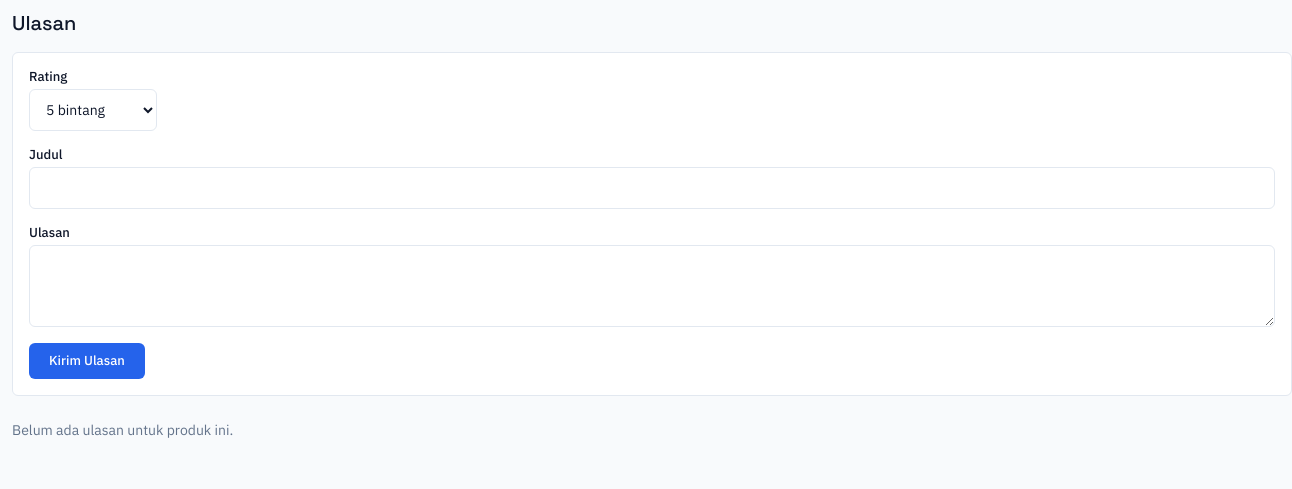
Test case: ProductReviews › surfaces the backend's forbidden error when the caller never received the product
In the field labelled "Judul": (652, 188) [29,167,1275,209], type "Bagus banget"
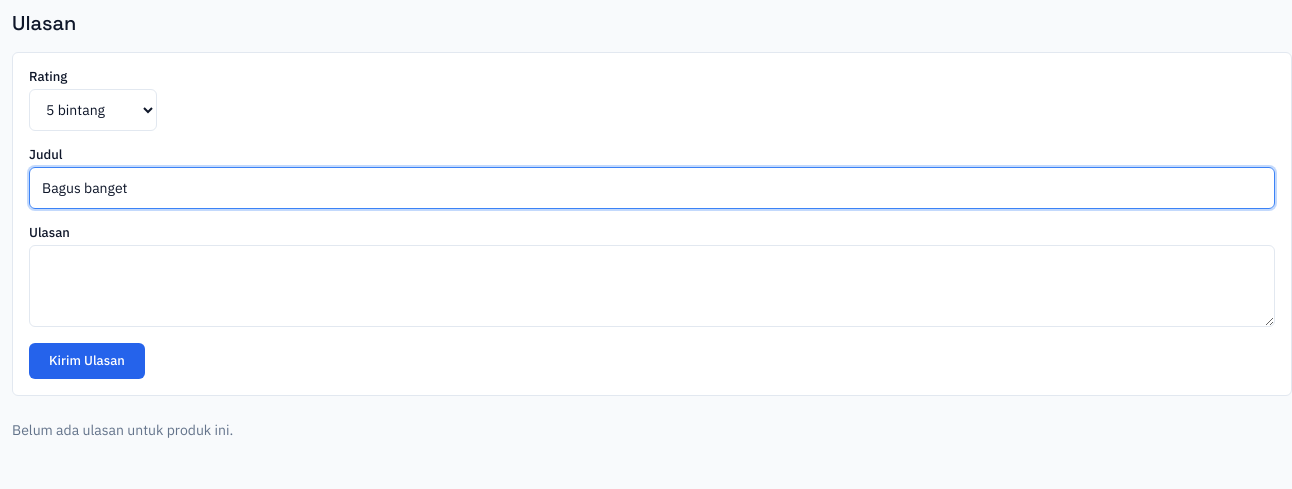
In the text box labelled "Ulasan": (652, 286) [29,245,1275,327], type "Kualitas produk sangat memuaskan sekali."
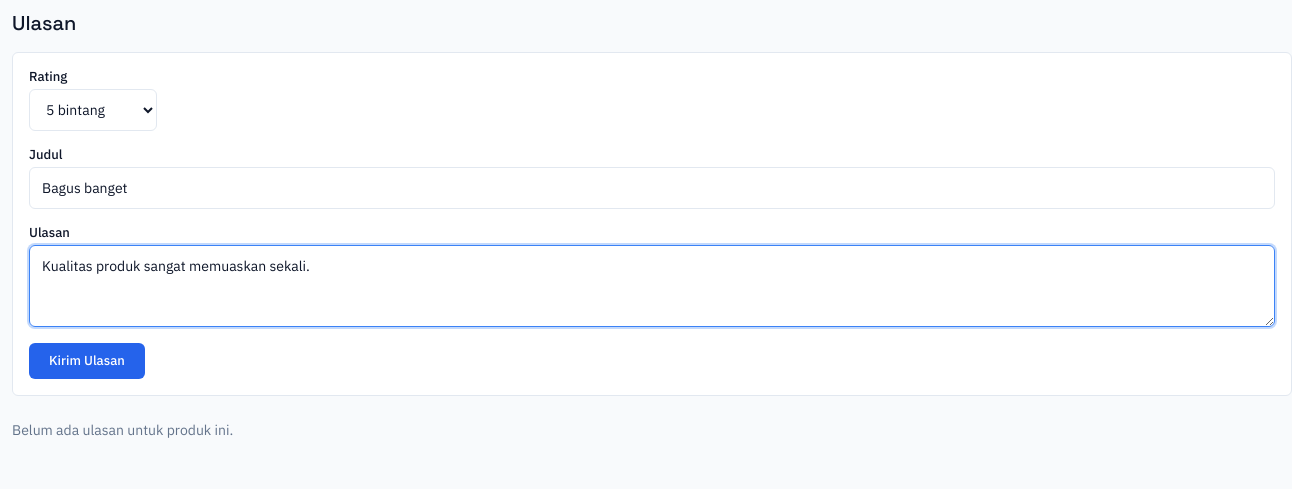
Click the button "Kirim Ulasan": (87, 361) [29,343,145,379]
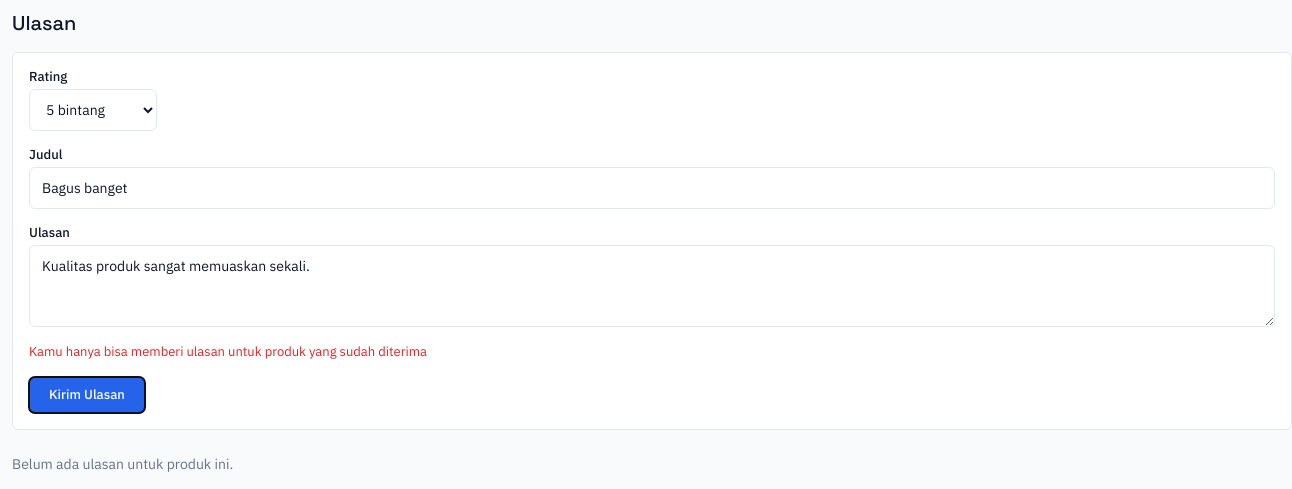
Result: the message shows "sudah diterima" at [29,343,427,360]
